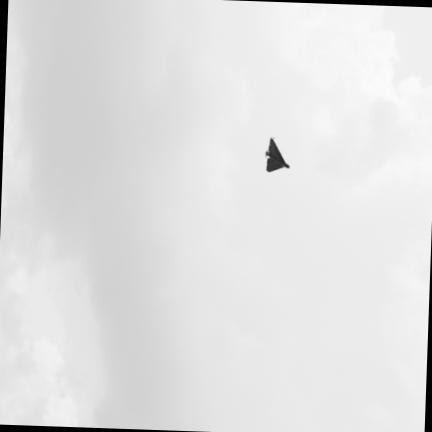Shahed: (266, 138, 289, 171)
